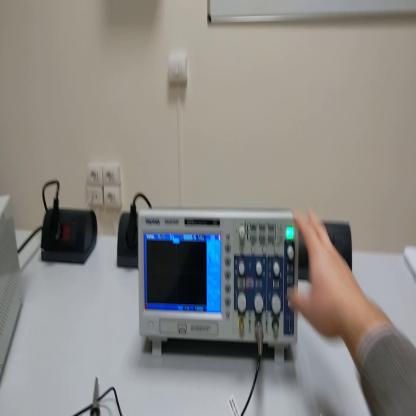hand: (289, 207, 356, 339)
oscilloscope: (137, 204, 300, 360)
oscilloscope probe tip: (91, 378, 101, 416)
power supply: (2, 198, 25, 390)
socket: (42, 209, 99, 265), (119, 213, 138, 267)
